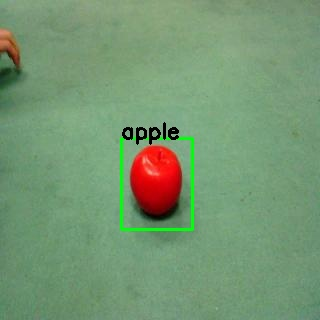apple: (121, 139, 187, 223)
